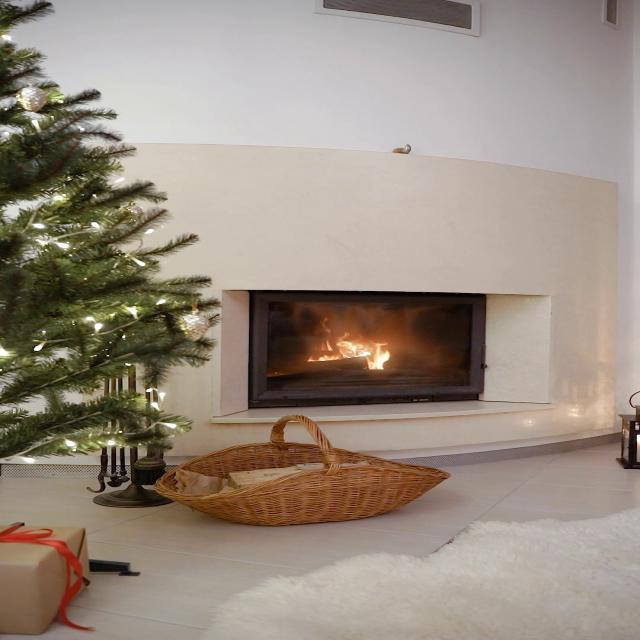Fire: (310, 324, 399, 372)
